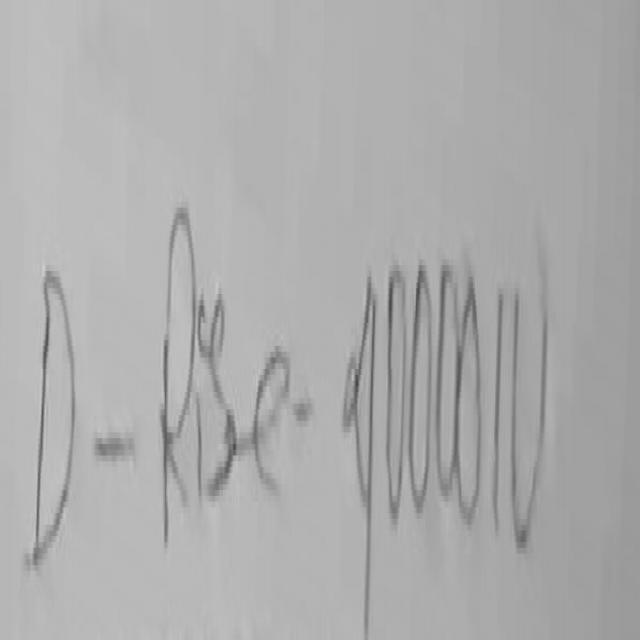0: (408, 259, 433, 505), (437, 259, 459, 493), (459, 301, 482, 522), (387, 265, 407, 516)
4: (352, 271, 376, 631)
D: (32, 271, 74, 556)
I: (494, 288, 503, 522)
R: (161, 202, 195, 539)
U: (514, 253, 546, 545)
e: (254, 352, 289, 505)
i: (197, 392, 202, 493)
s: (207, 288, 237, 493)
